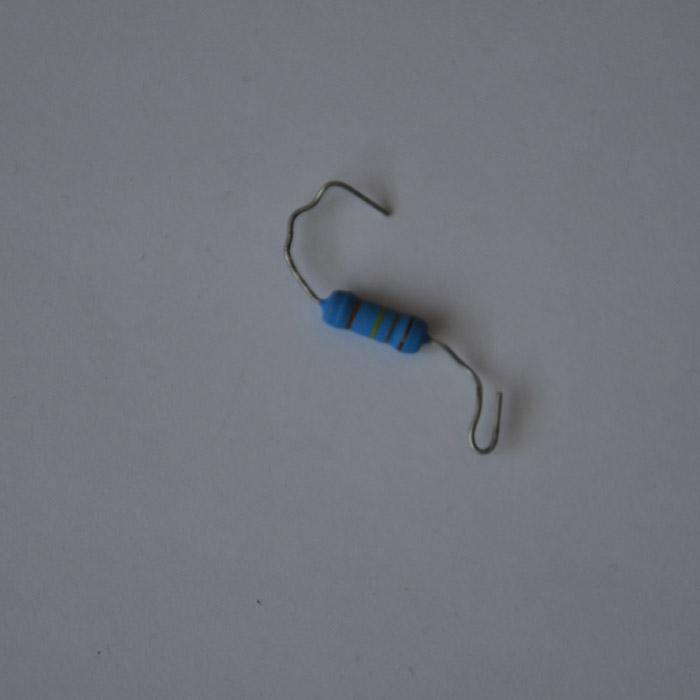resistor: (317, 288, 428, 354)
